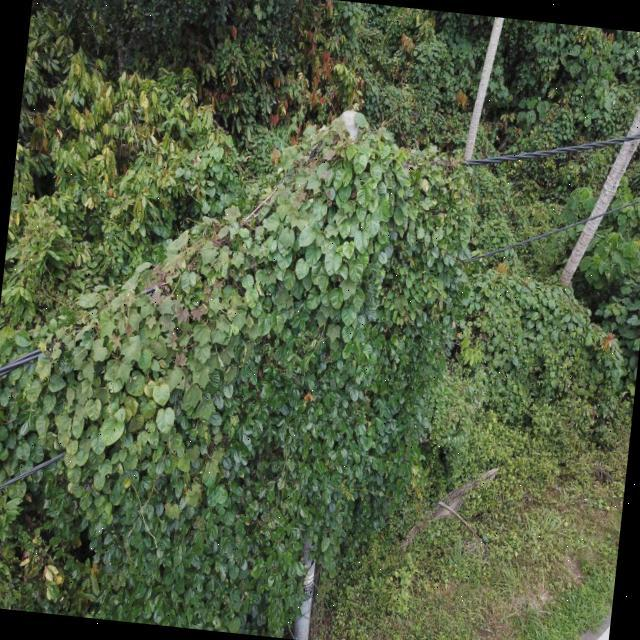critical vegetation: (21, 64, 490, 594)
